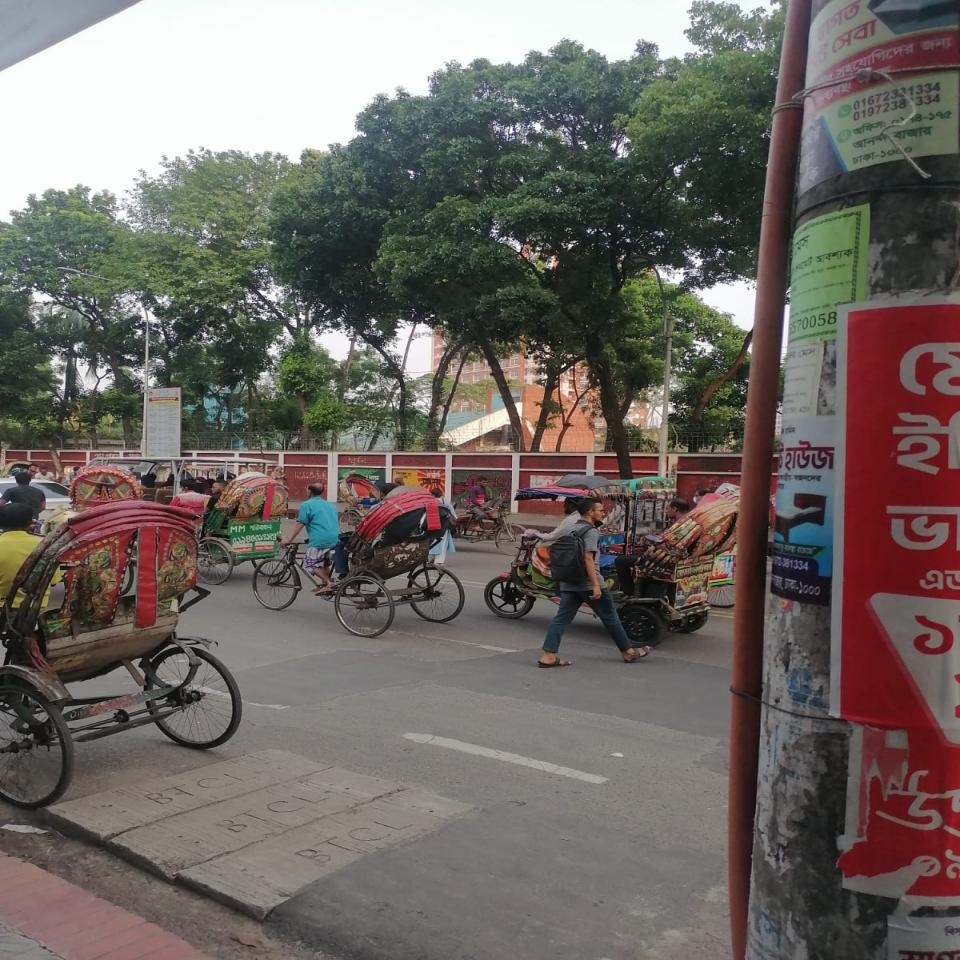person: (538, 497, 654, 668)
